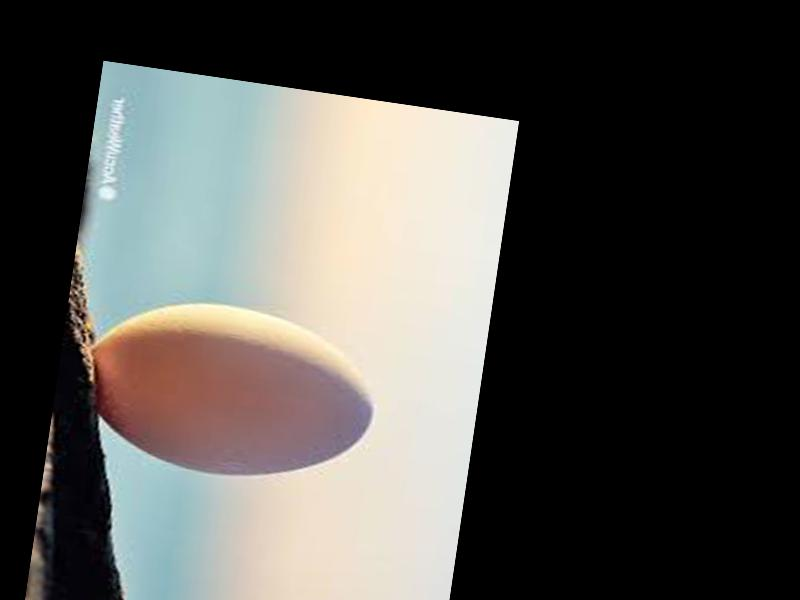Eggs: (81, 287, 387, 496)
